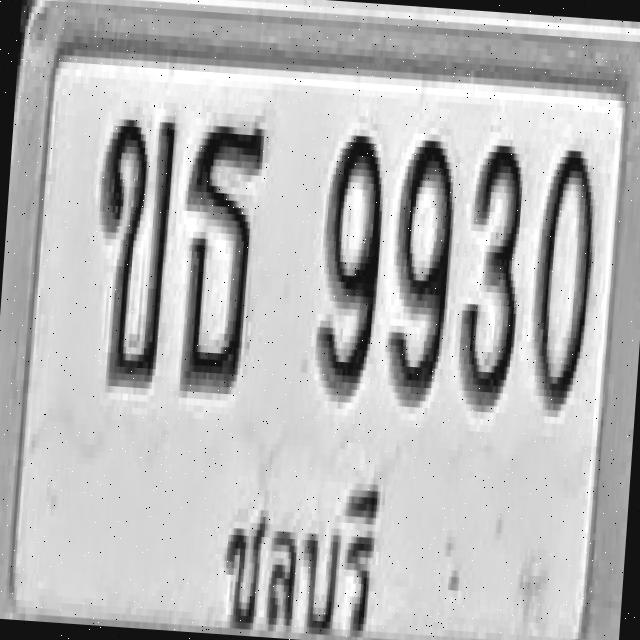0: (527, 142, 599, 412)
11KhorKhai: (86, 111, 176, 389)
3: (454, 137, 528, 414)
33ThorThong: (173, 111, 266, 395)
9: (312, 130, 387, 400), (384, 136, 458, 406)
Chonburi: (211, 461, 395, 640)
